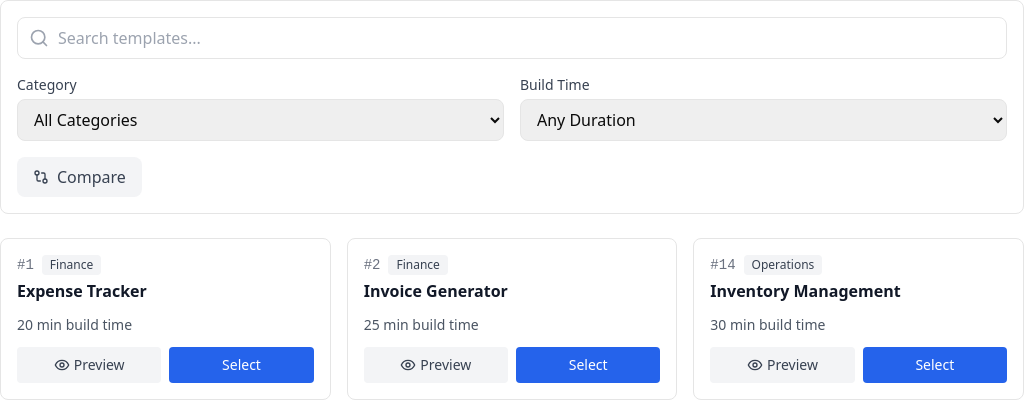
Test: TemplateSelector › Search and Filter › should filter by category
The width and height of the screenshot is (1024, 417).
Select "Finance" in the dropdown labelled "Category" at coordinates (260, 120), box x1=17 y1=99 x2=504 y2=141
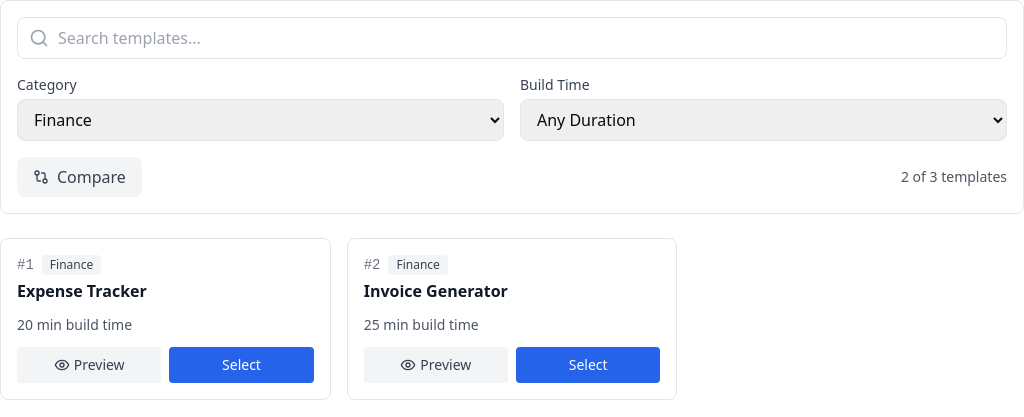
Expected: the heading "Expense Tracker" is shown, x1=17 y1=280 x2=147 y2=302
Result: the heading "Inventory Management" is gone
